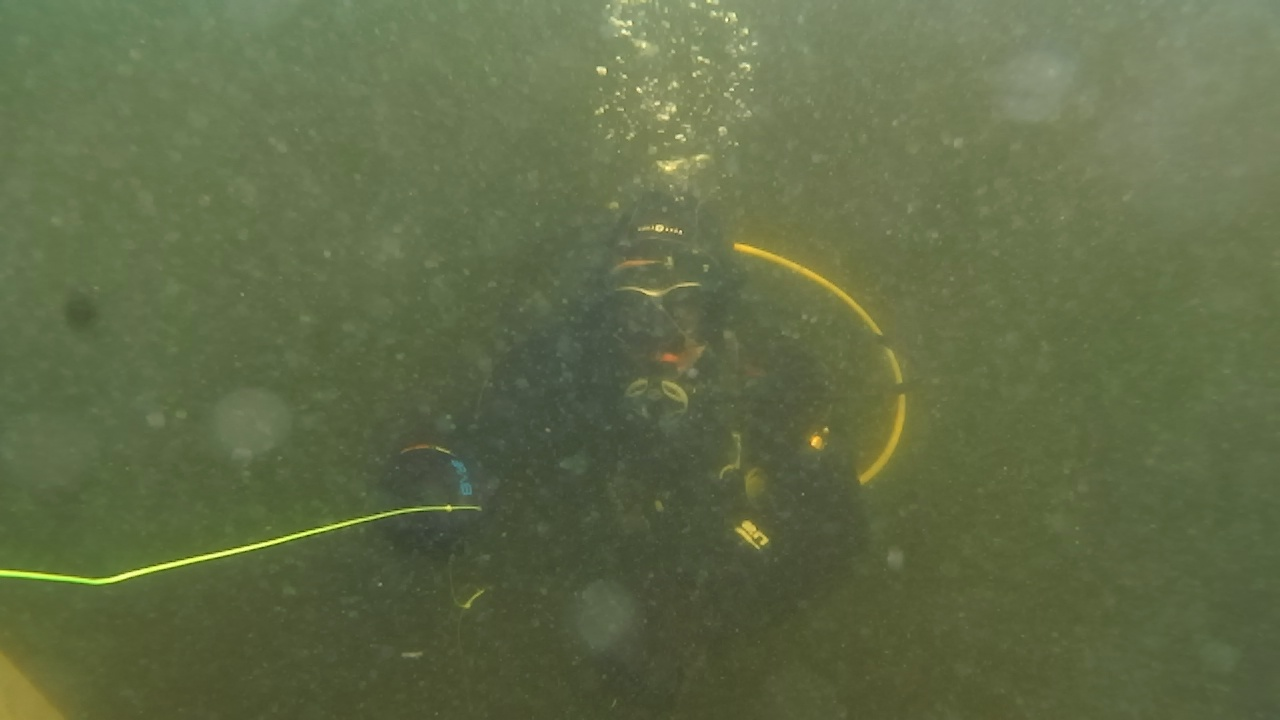Diver: (352, 184, 918, 692)
Hand: (344, 434, 506, 560)
Head: (578, 182, 742, 432)
